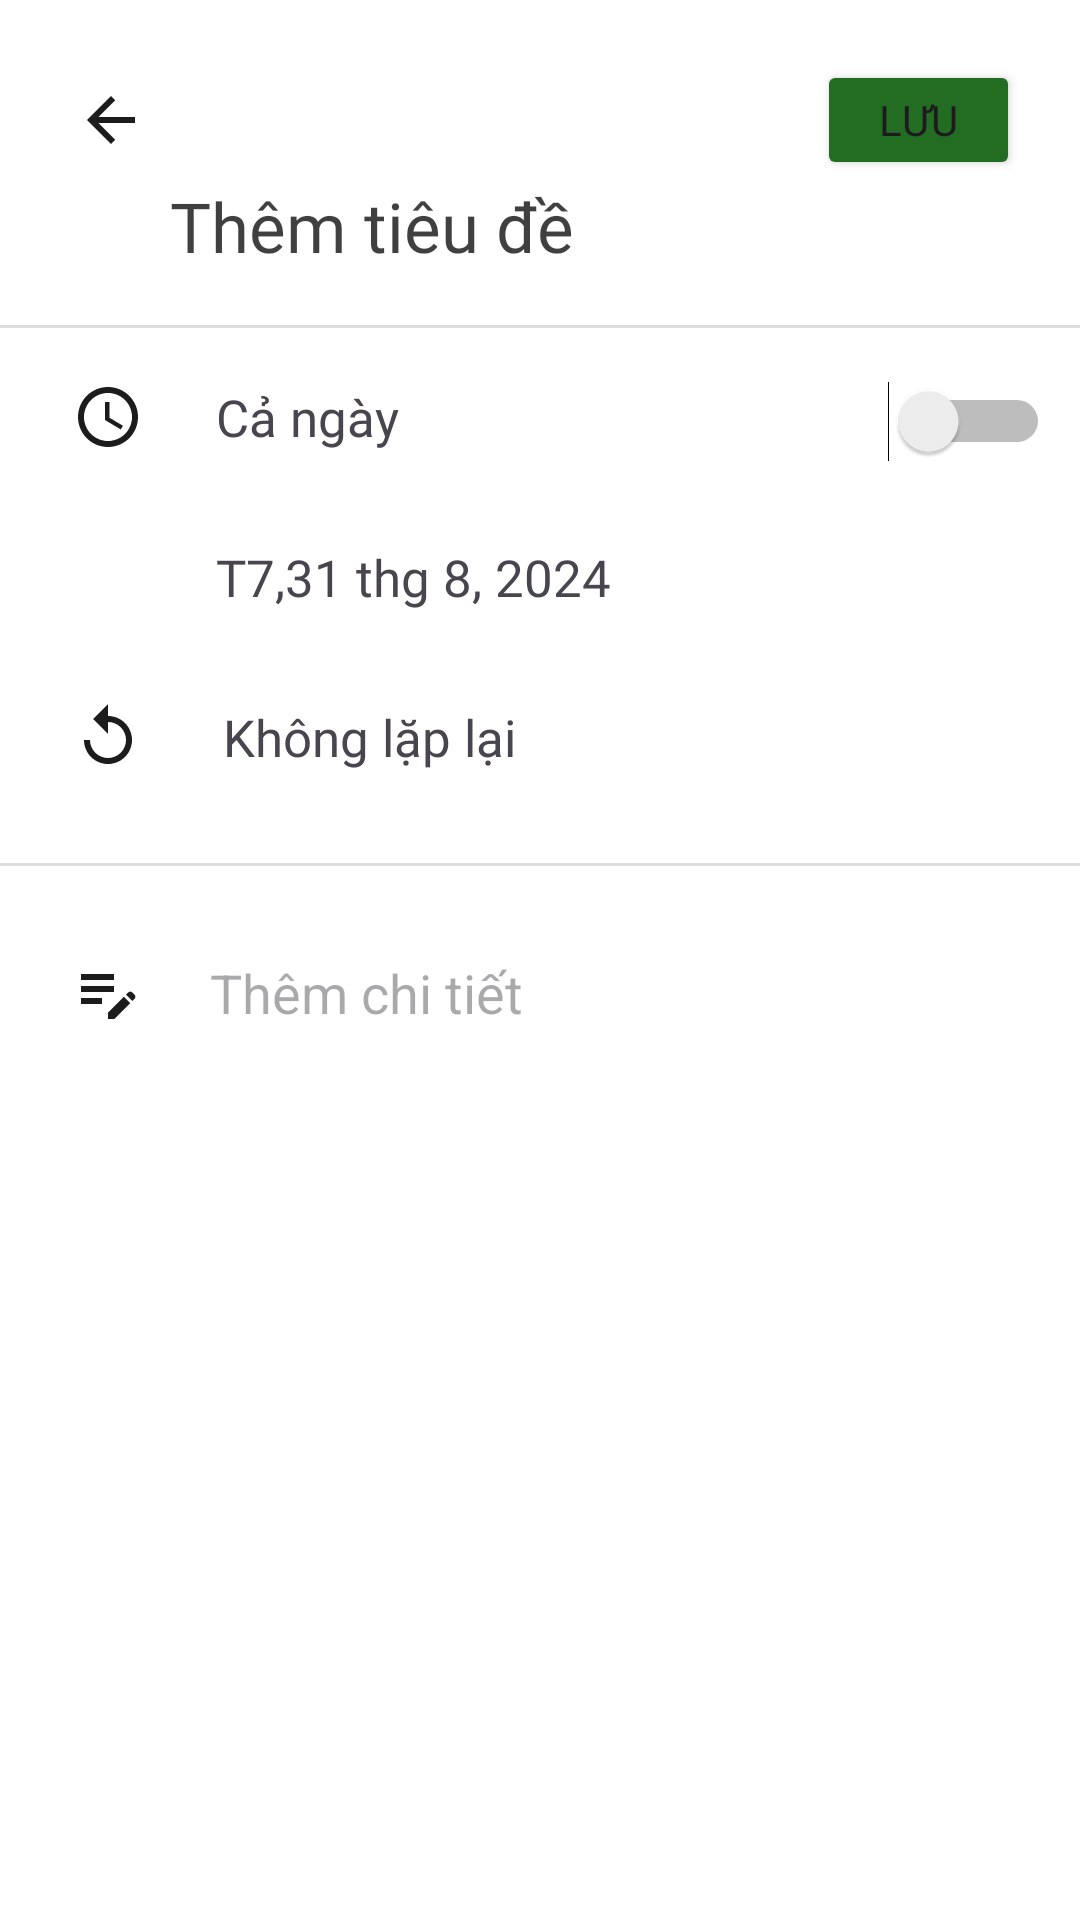

Icon click points for this 1080*1920 phone screenshot, format (x,y):
arrow back: (111,120)
